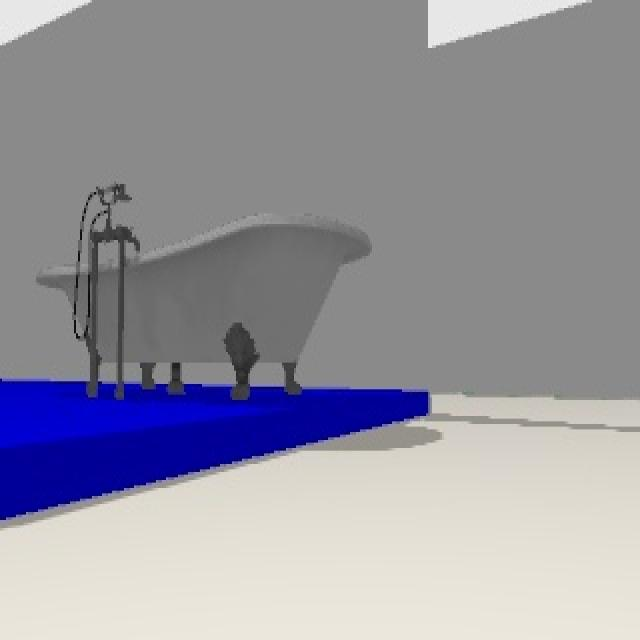bathtub: (37, 183, 368, 401)
